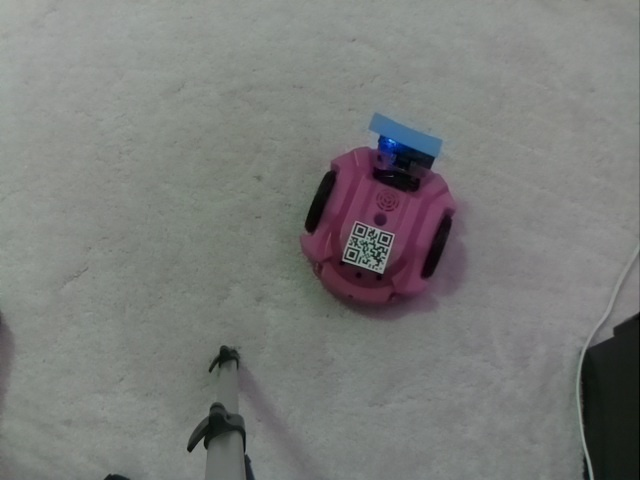chassis: (288, 115, 455, 312)
qr: (336, 213, 404, 280)
